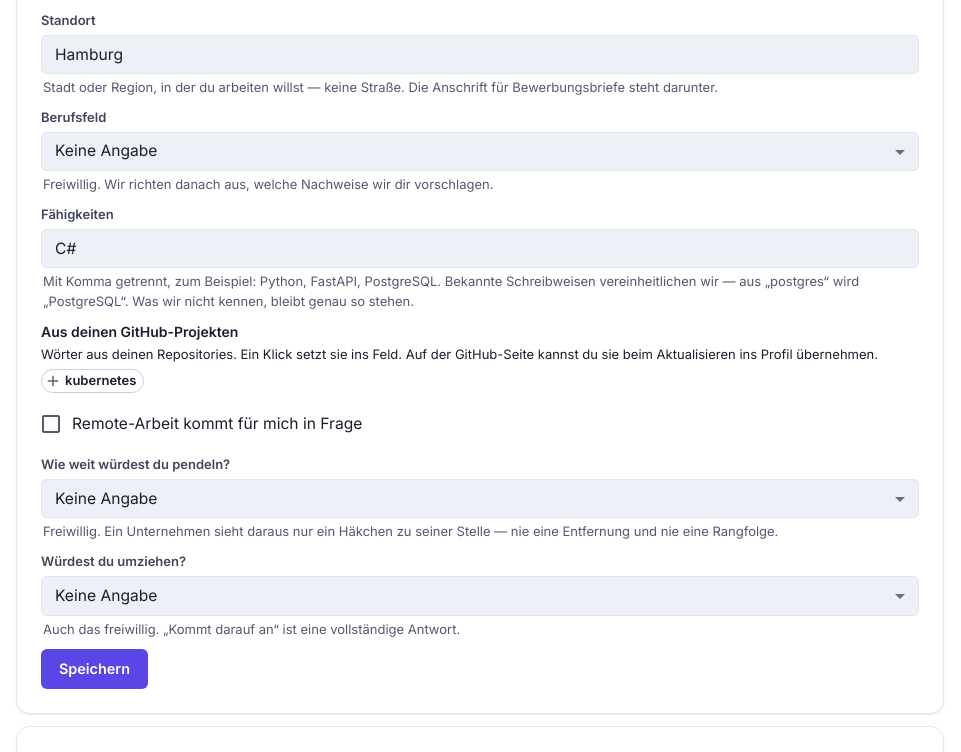
Test: ProfilePage — Vorschläge aus Belegen › setzt einen Vorschlag ins Feld — und speichert dabei nicht
(page scrolled)
Click the button "kubernetes" at (93, 381), box [41,369,144,393]
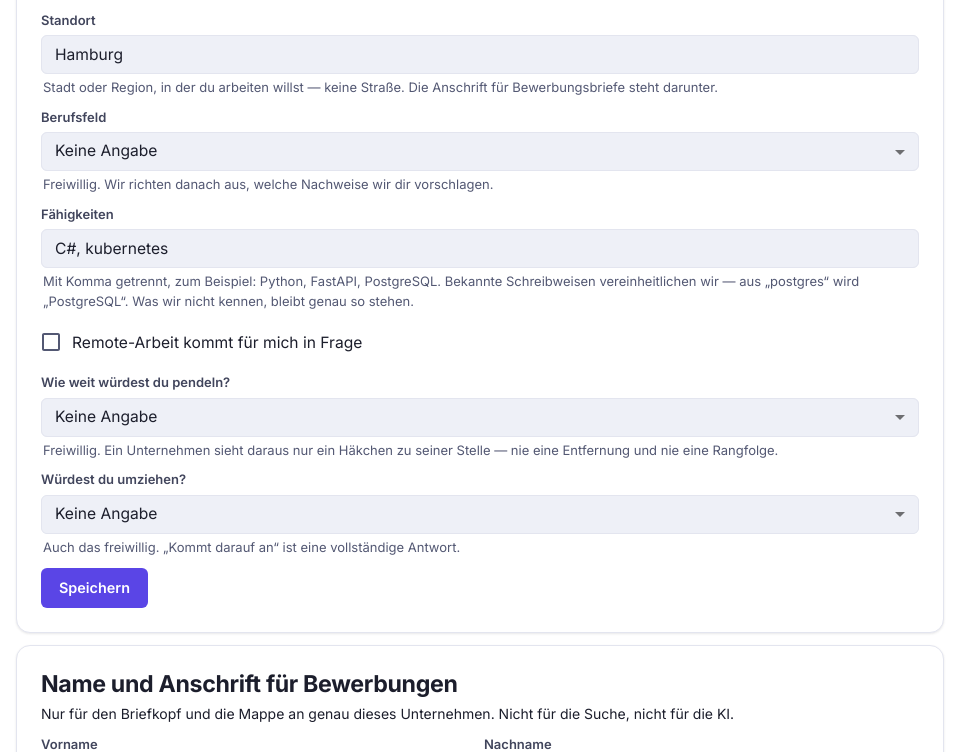
expect the field labelled "Fähigkeiten" holds "C#, kubernetes": met, box [41,229,919,268]
